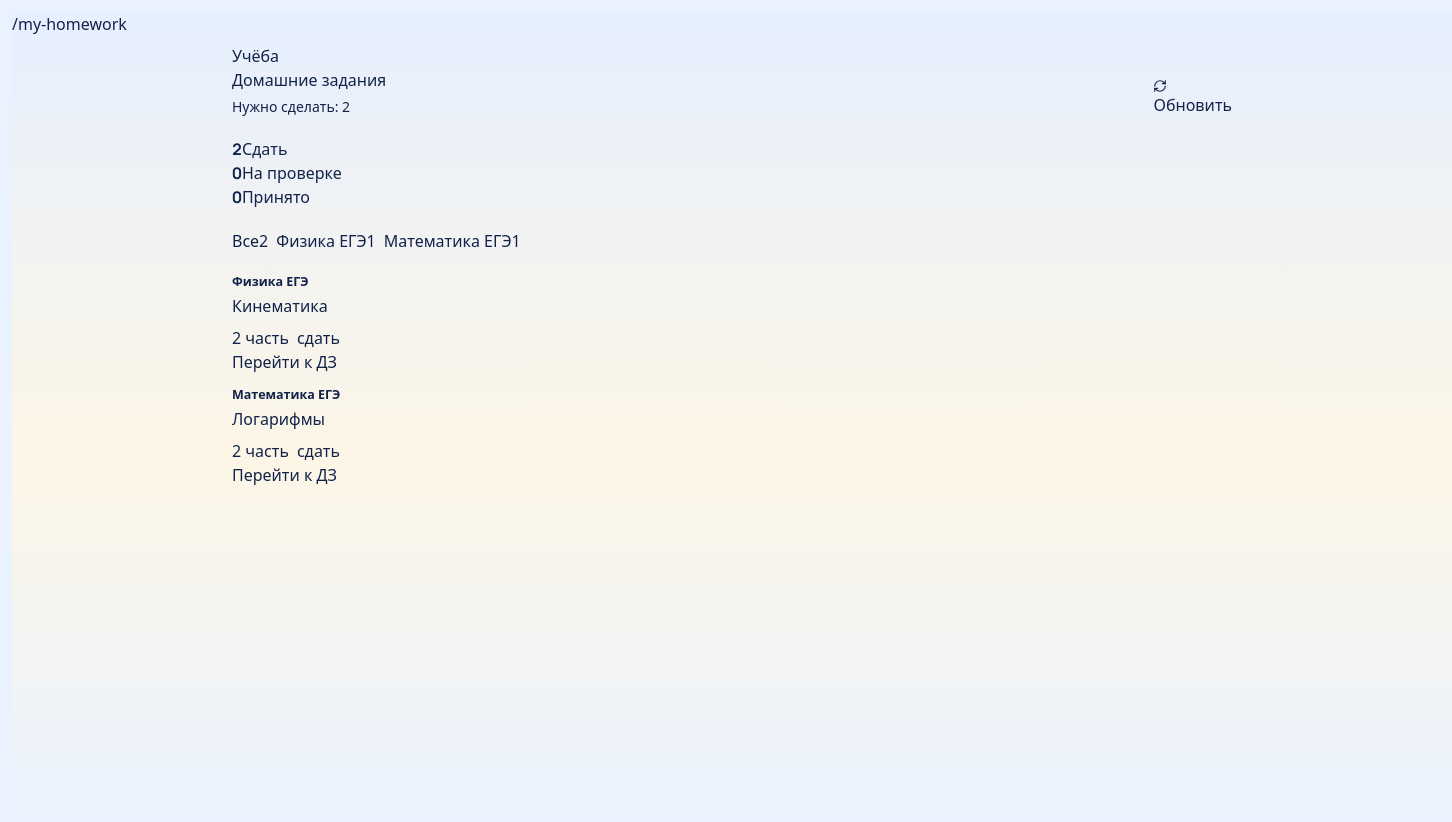
it: MyTopicHomeworkPage — список ДЗ ученика › выбор курса отбирает список и запоминается в адресе страницы
Click the button "Математика ЕГЭ1": (452,241) [384,229,521,253]
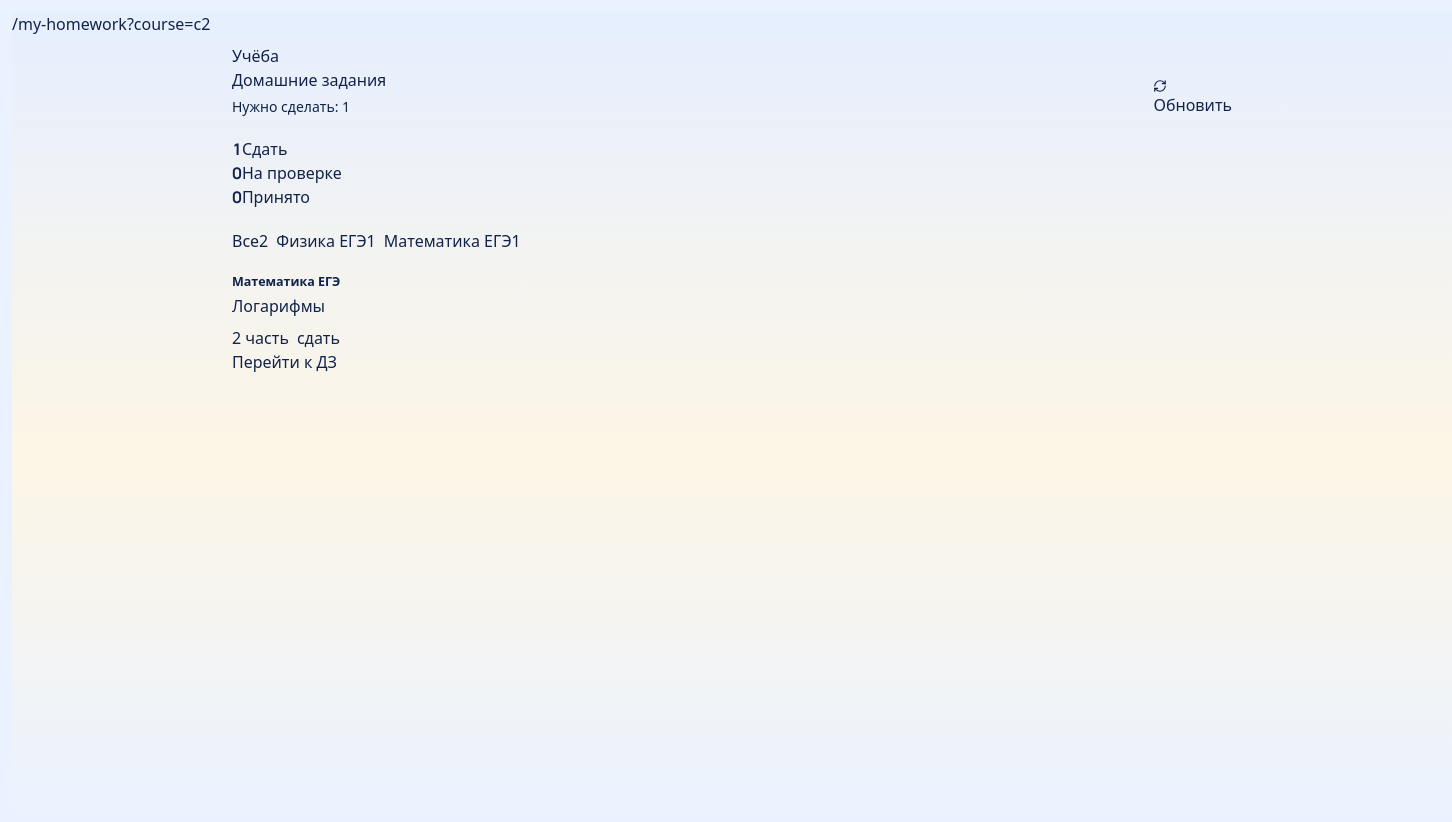
Expected: the heading "Логарифмы" is shown, [232,295,325,317]
Now the text with test id "address" reads "/my-homework?course=c2", box [12,13,210,35]
Now the heading "Кинематика" is gone
